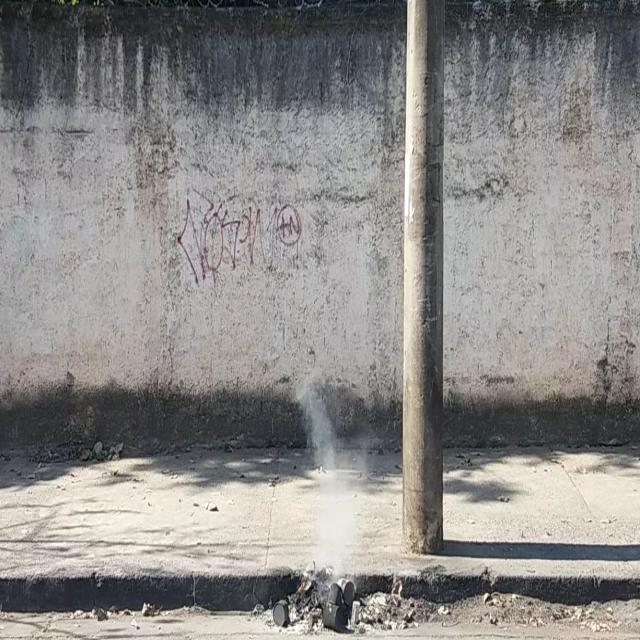Smoke: (287, 367, 370, 604)
